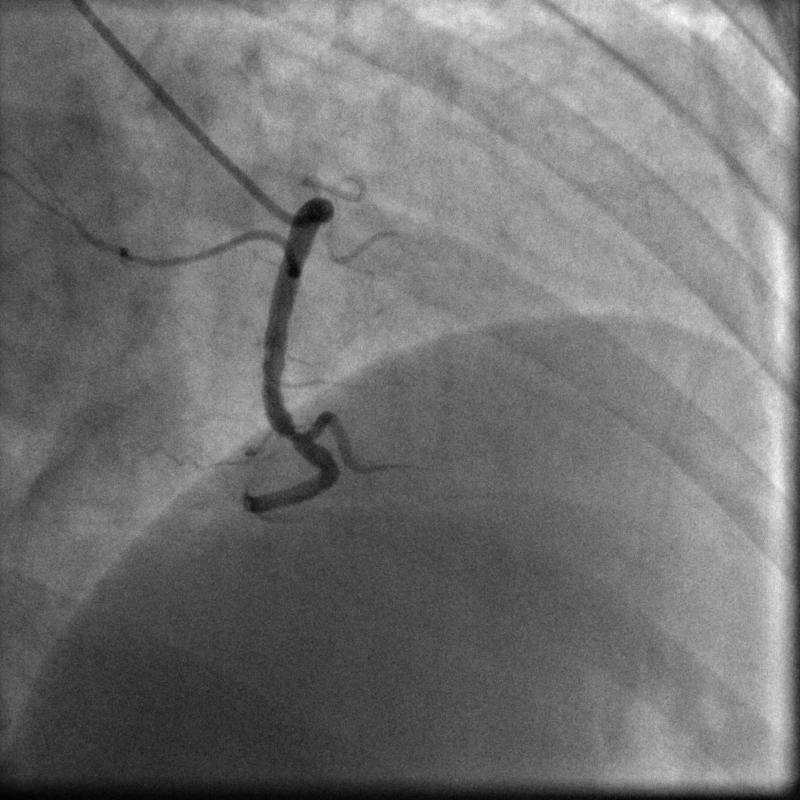Stenosis: (274, 418, 321, 455)
